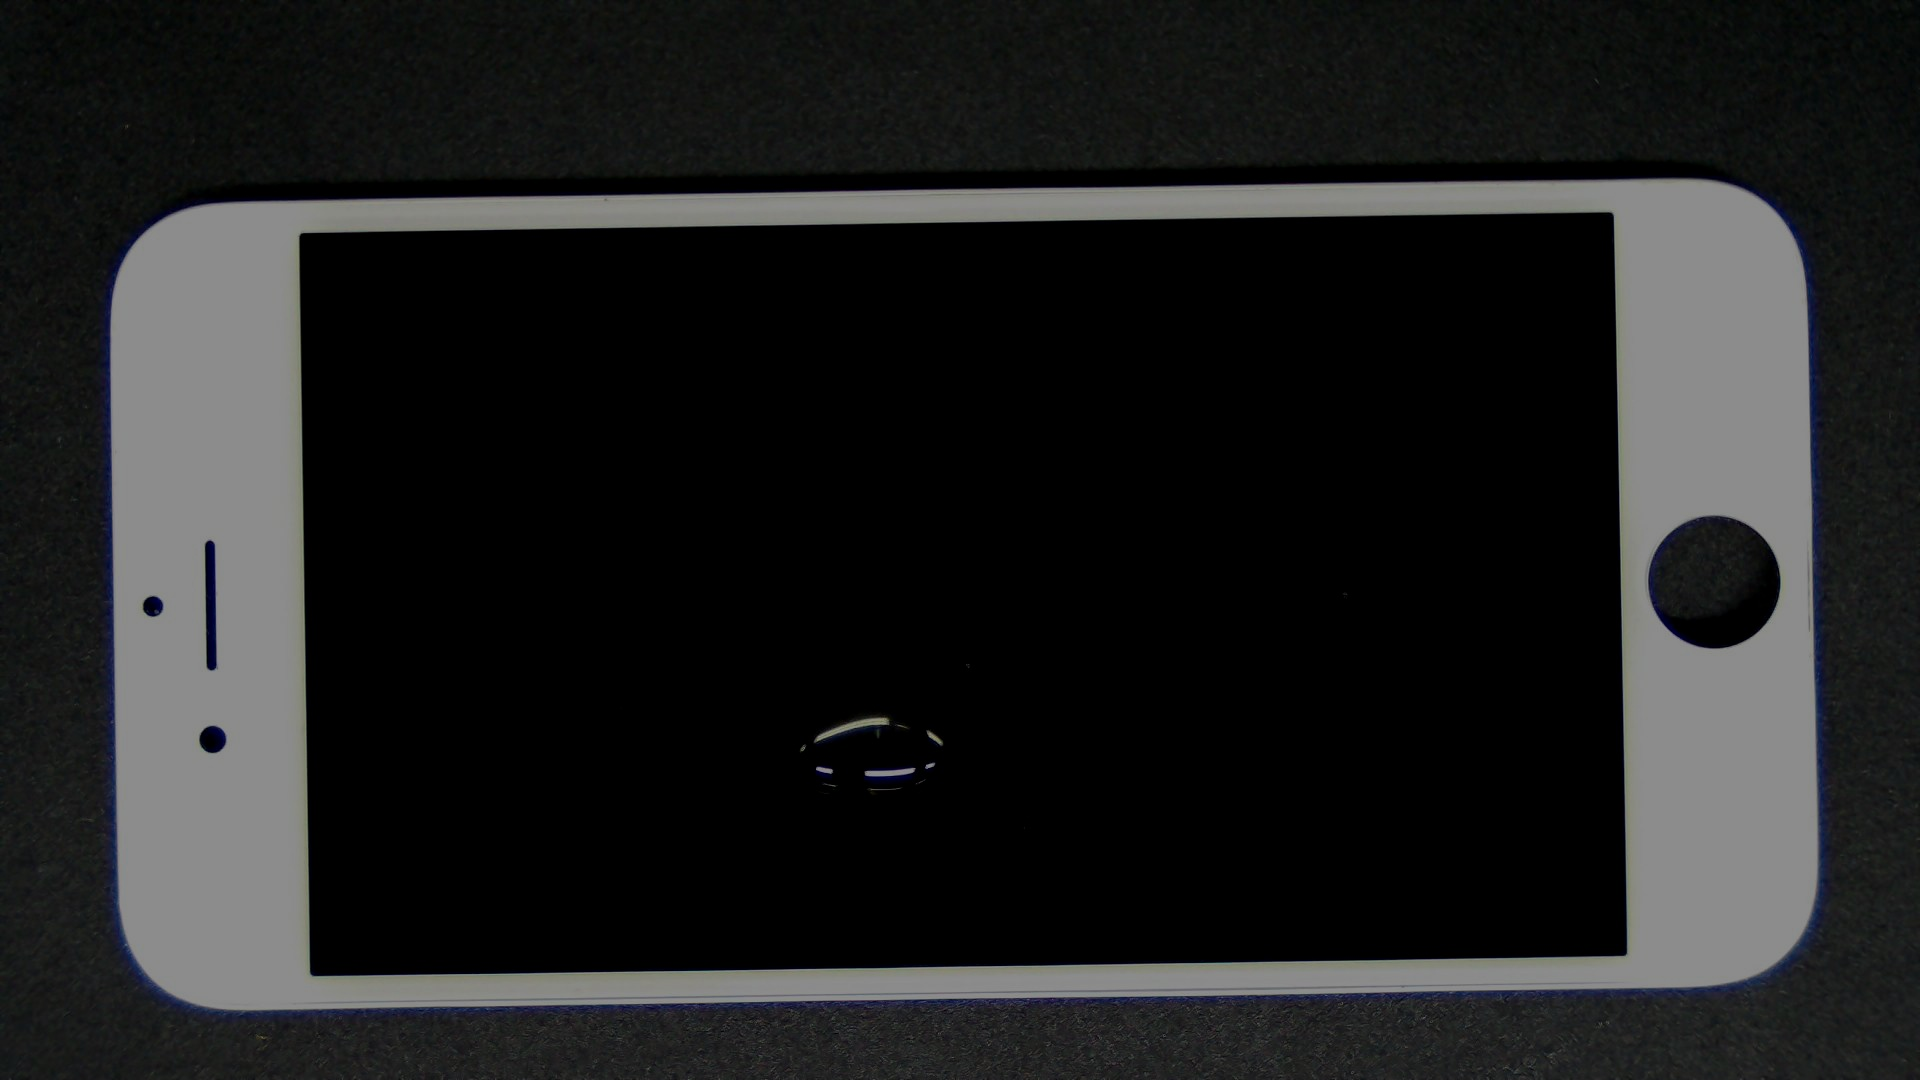oil: (439, 351, 1313, 1054)
